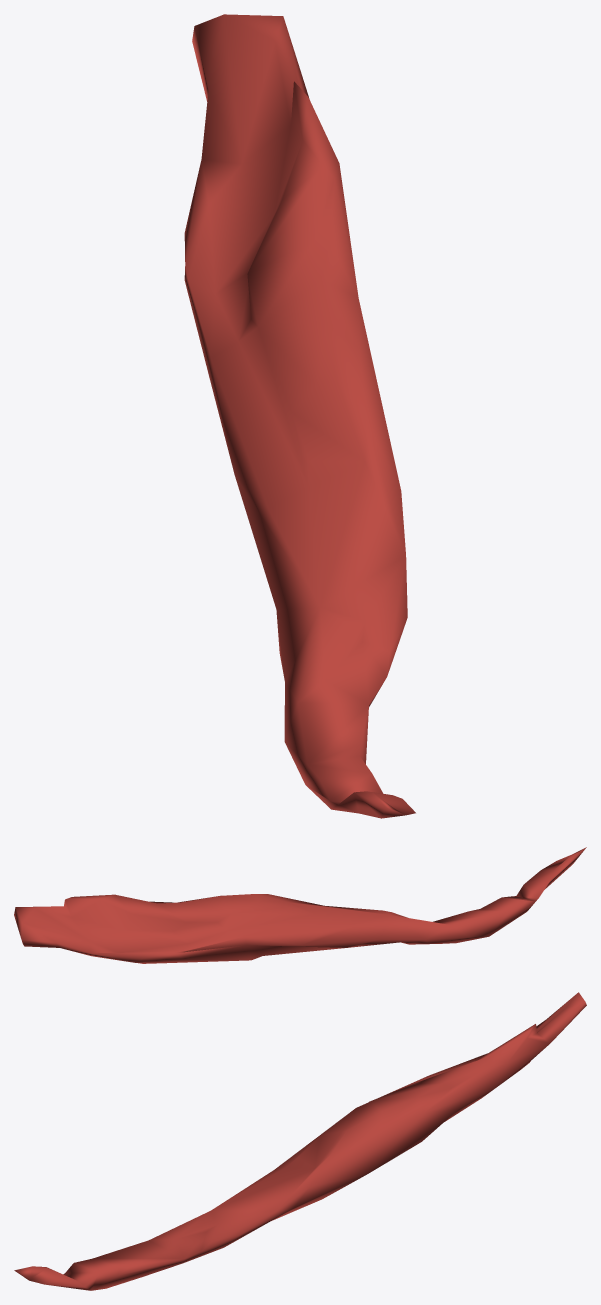
File: musculos-flexor-digiti-minimi-of-foot-r.glb
3 renders of one model, top to bottom at view 1: azimuth 30°, elevation 25°; view 2: azimuth 150°, elevation 25°; view 3: azimuth 330°, elevation 25°, orthographic. The views are drawn at different scales.
Parts seen in each view (by area): view 1: Flexor digiti minimi of foot.r; view 2: Flexor digiti minimi of foot.r; view 3: Flexor digiti minimi of foot.r.
Boxes of the visible parts, <box> form: Flexor digiti minimi of foot.r: <box>184,14,415,818</box>; Flexor digiti minimi of foot.r: <box>14,847,586,963</box>; Flexor digiti minimi of foot.r: <box>14,992,586,1290</box>.
Bounding box in the file's own units: 0.033 × 0.0184 × 0.0726.
